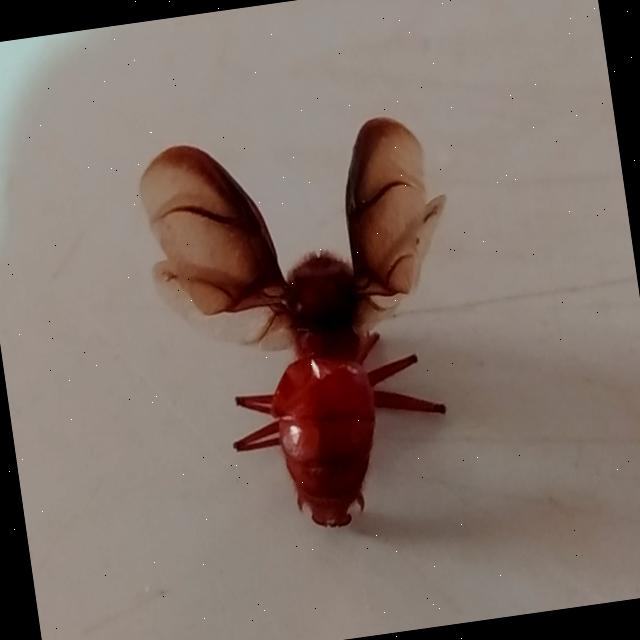Dead-Male-Alate: (132, 109, 491, 549)
